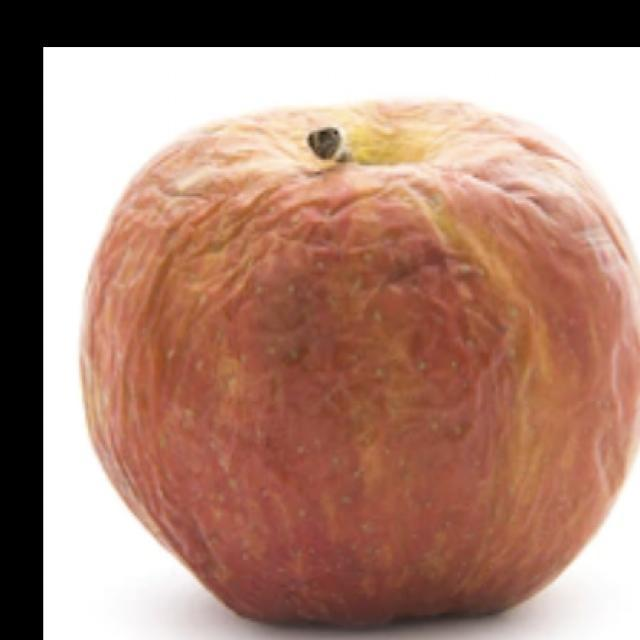Rotten: (111, 117, 632, 625)
